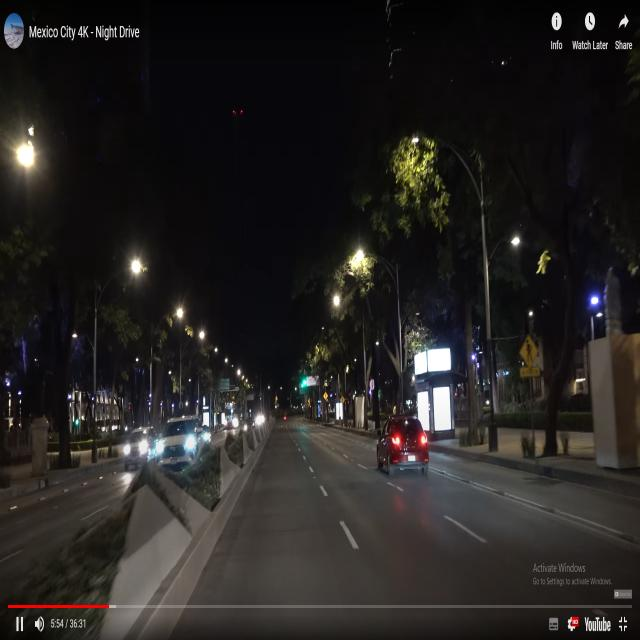headlights: (151, 432, 201, 464), (121, 437, 151, 461)
